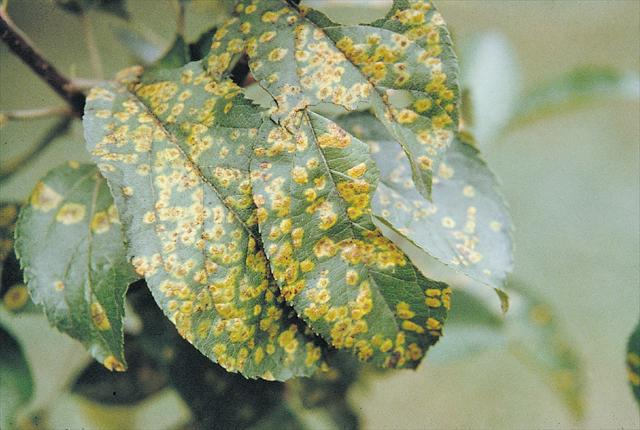Apple rust leaf: (79, 56, 326, 385), (249, 98, 465, 381), (12, 153, 140, 383)
